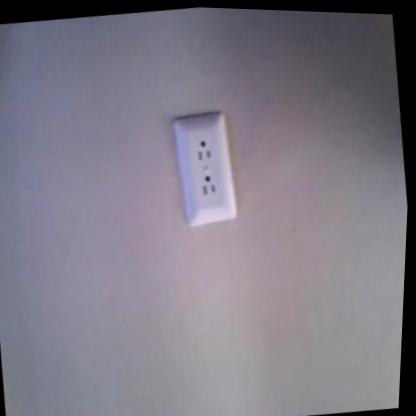OUTLET: (170, 113, 240, 226)
